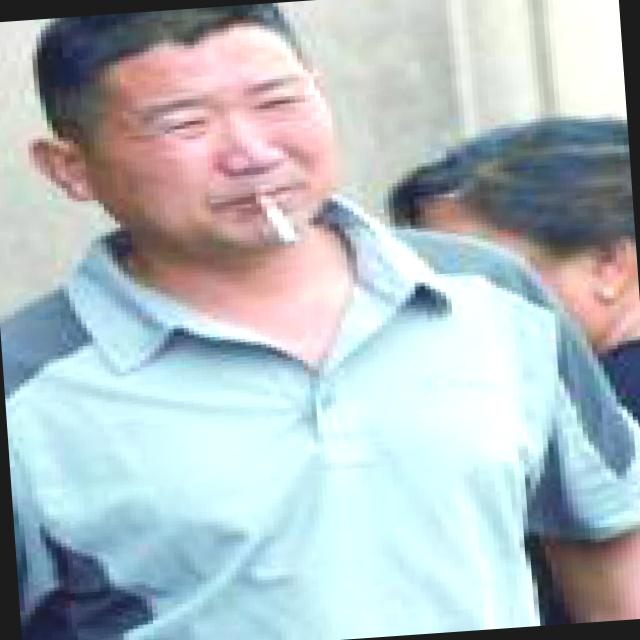smoke: (246, 182, 306, 255)
